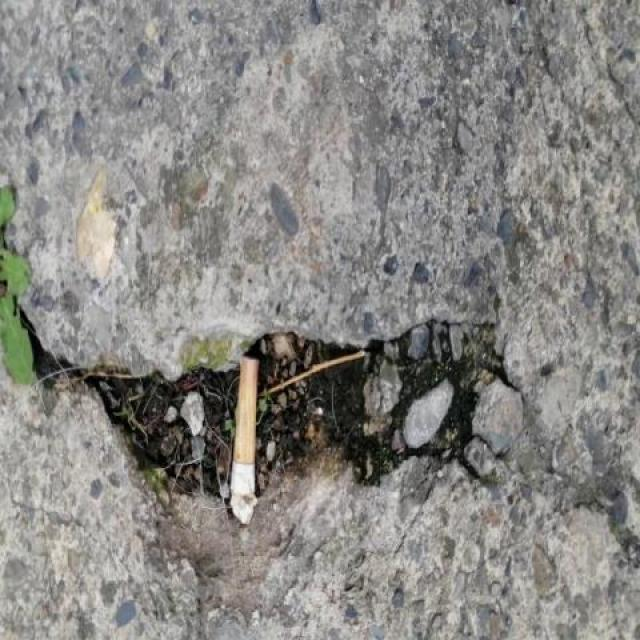non-organic waste: (225, 349, 263, 502)
